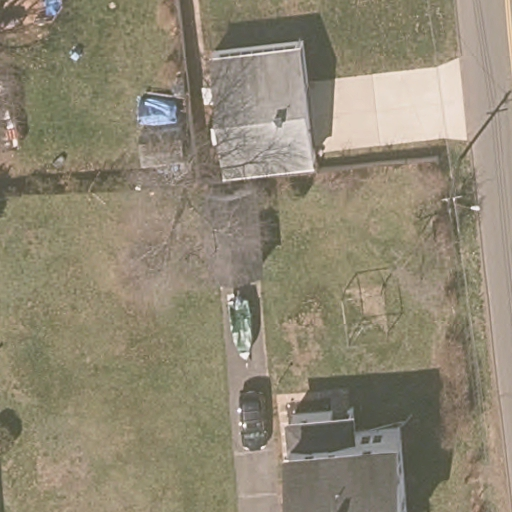DT: (440, 159, 481, 232)
